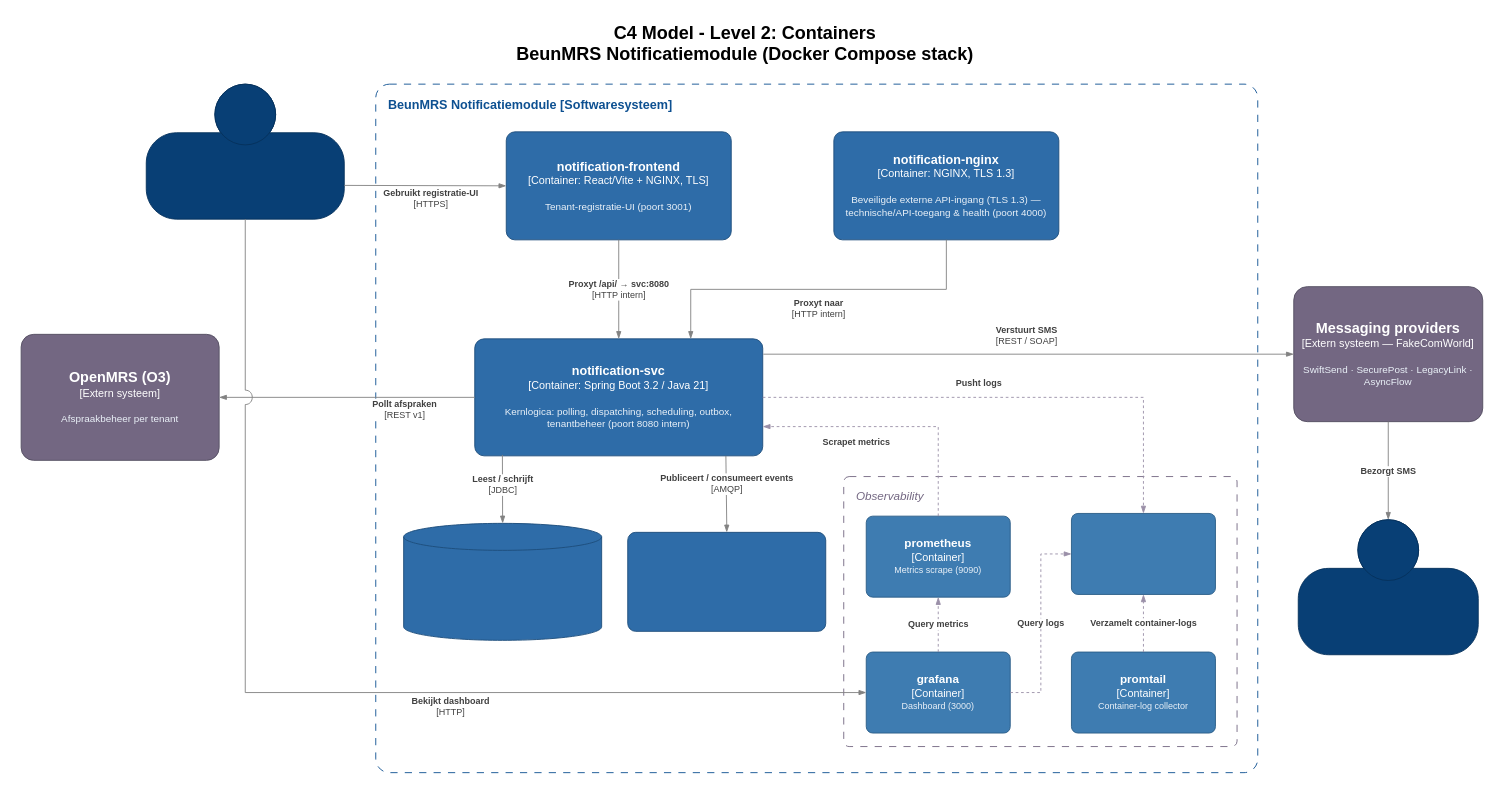
The diagram is 1499 pixels wide and 788 high, and some of its shapes have lost their labels. Each missing label, with the centre of its shape:
loki [Container] Log-aggregatie (3100): (1143,553)
notification-db [Container: PostgreSQL 16] 8 tabellen (poort 5433): (502,581)
Patiënt [Persoon]: (1387,587)
rabbitmq [Container: RabbitMQ 3.13] Topic exchange + DLX (mgmt 15672): (726,581)
Ziekenhuisbeheerder [Persoon]: (244,151)
